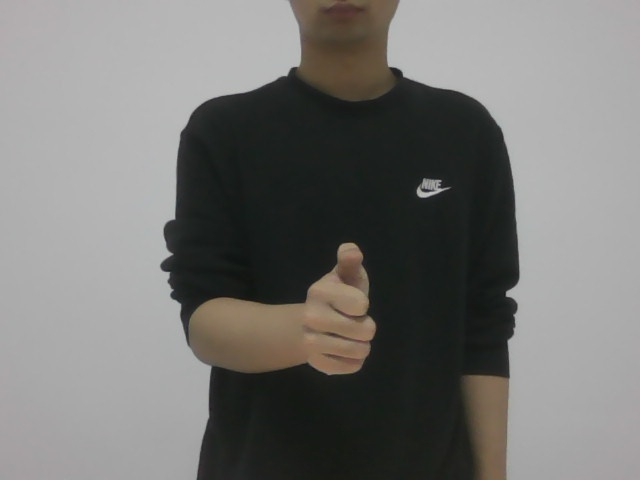thank you: (307, 235, 377, 381)
